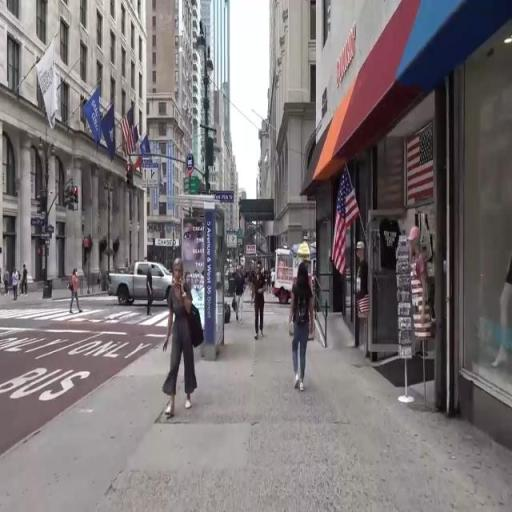person: (168, 258, 203, 419), (290, 261, 314, 403), (254, 261, 267, 340), (70, 267, 86, 322), (235, 263, 247, 322), (147, 264, 155, 316), (12, 268, 20, 303), (271, 268, 278, 302), (22, 267, 28, 296), (5, 269, 11, 297), (250, 266, 253, 298)
